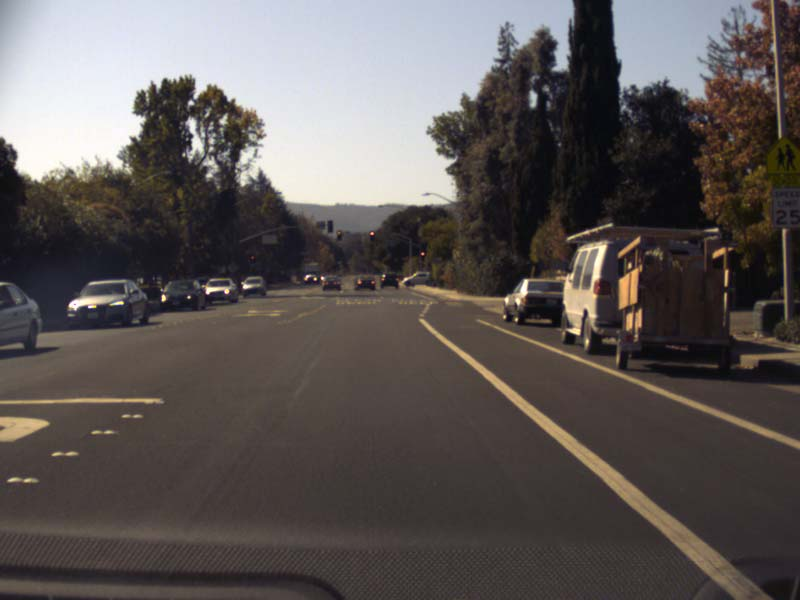Red: (369, 231, 374, 240), (250, 254, 255, 263), (337, 230, 341, 239), (419, 250, 425, 256)
